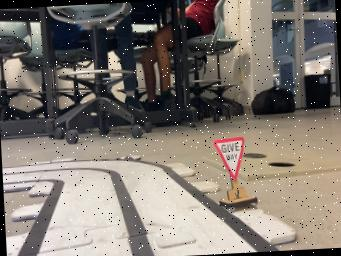give_way: (213, 136, 257, 212)
street: (2, 159, 280, 256)
